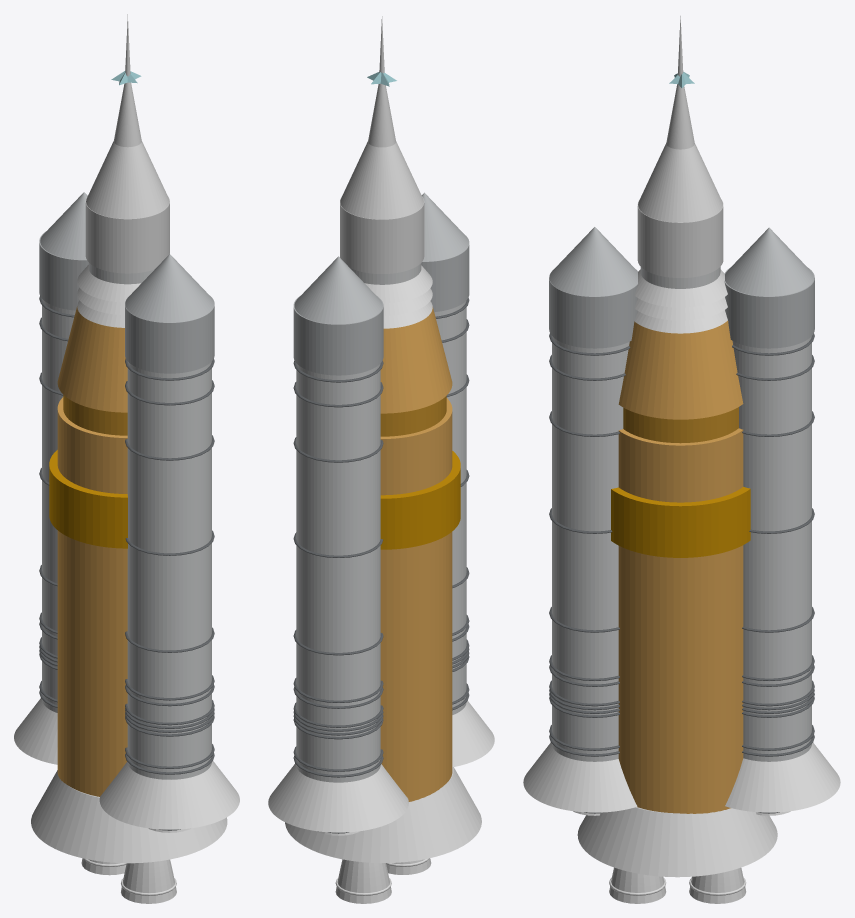
3 renders of one model, left to right at view 1: azimuth 30°, elevation 25°; view 2: azimuth 150°, elevation 25°; view 3: azimuth 270°, elevation 25°, orthographic.
Visible parts, largest first — view 1: Mesh_Mesh_head_geo001_lambert2SG001; view 2: Mesh_Mesh_head_geo001_lambert2SG001; view 3: Mesh_Mesh_head_geo001_lambert2SG001.
Boxes of the visible parts, x1=… form: Mesh_Mesh_head_geo001_lambert2SG001: x1=14, y1=14, x2=239, y2=903; Mesh_Mesh_head_geo001_lambert2SG001: x1=268, y1=16, x2=494, y2=903; Mesh_Mesh_head_geo001_lambert2SG001: x1=523, y1=16, x2=840, y2=903.
Size of the model in its own units: 70 by 339 by 111.
